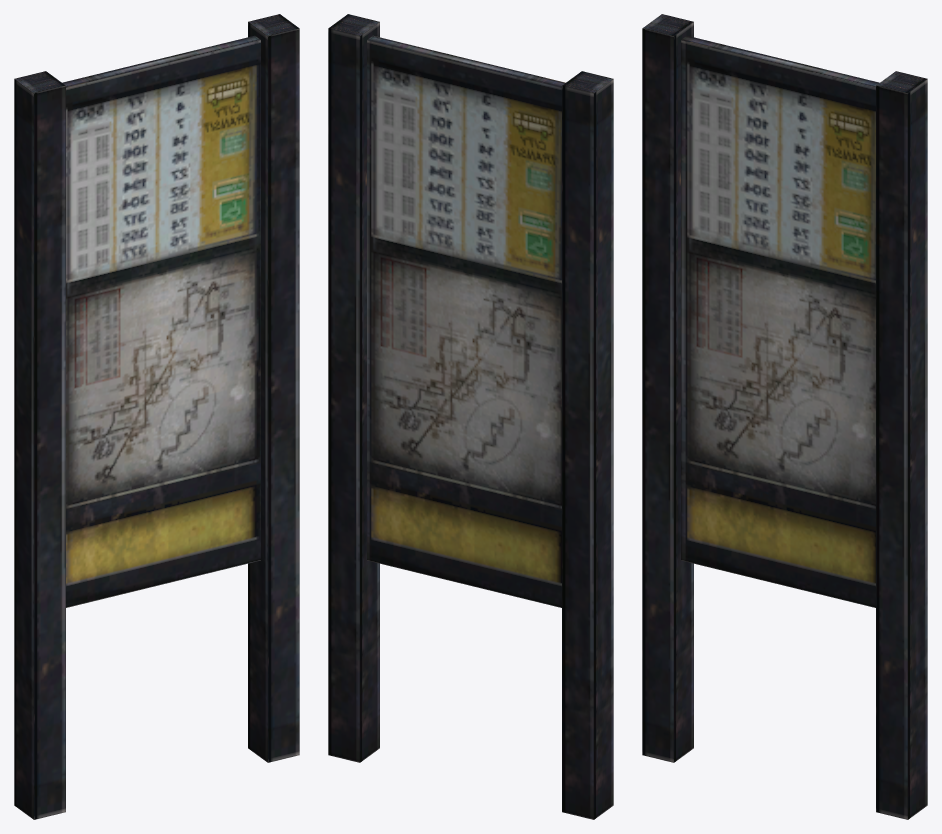
Rendered from bus_sched_sign.fbx.
The picture shows the model from 3 angles, left to right: view 1: azimuth 30°, elevation 25°; view 2: azimuth 150°, elevation 25°; view 3: azimuth 330°, elevation 25°; orthographic projection.
Visible parts, largest first — view 1: mesh_0; view 2: mesh_0; view 3: mesh_0.
Boxes of the visible parts, x1=… form: mesh_0: x1=14, y1=14, x2=299, y2=819; mesh_0: x1=328, y1=14, x2=613, y2=819; mesh_0: x1=642, y1=14, x2=927, y2=819.
Size of the model in its own units: 77.48 by 202 by 10.
1 material, 1 textured.
